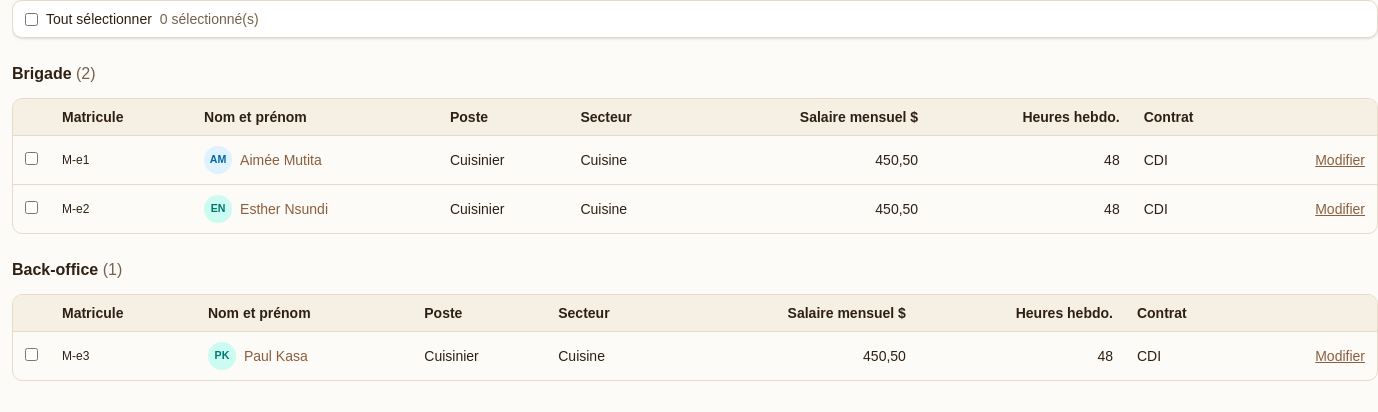
Test: Liste des employés — actions groupées › cocher deux lignes (une par section) : « Excel (2) » et « PDF (2) » portent les identifiants cochés
This screenshot has width=1378, height=412.
Step 1. Click the checkbox named "Sélectionner Aimée Mutita" → (32, 158), box [25,152,38,165]
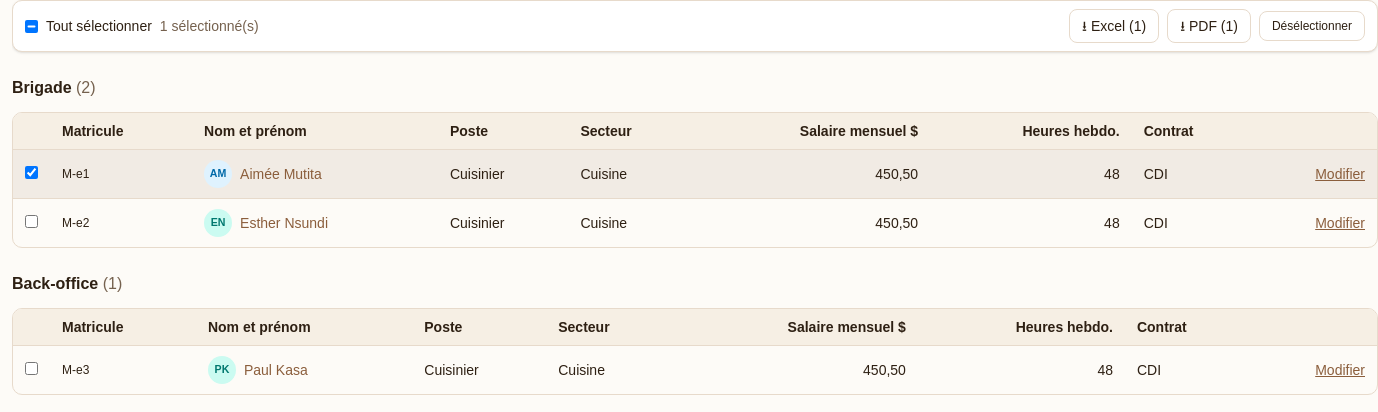
Step 2. Click the checkbox named "Sélectionner Paul Kasa" → (32, 368), box [25,362,38,375]
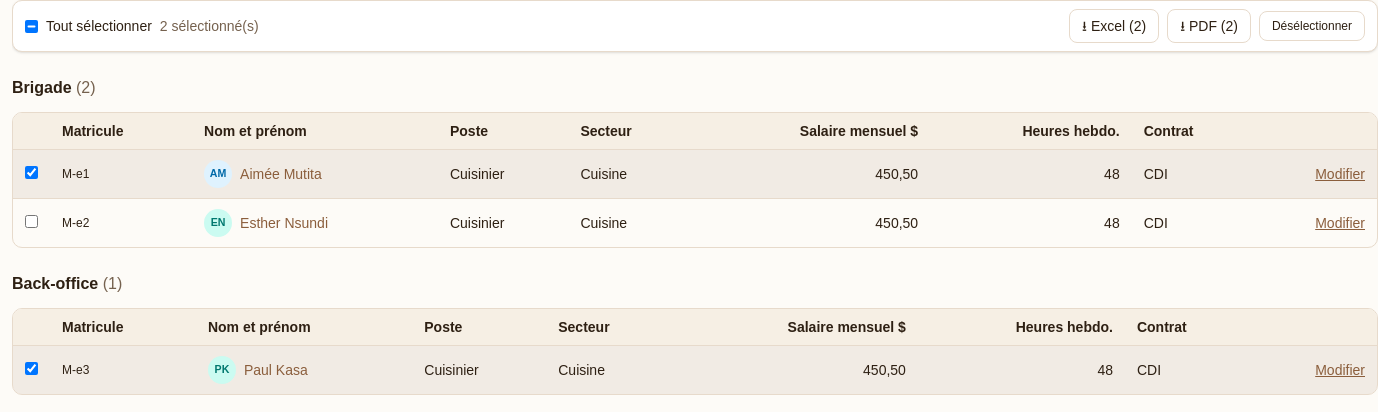
expect the element with class "sticky" shows "2 sélectionné(s)": met, box [12,0,1377,52]
